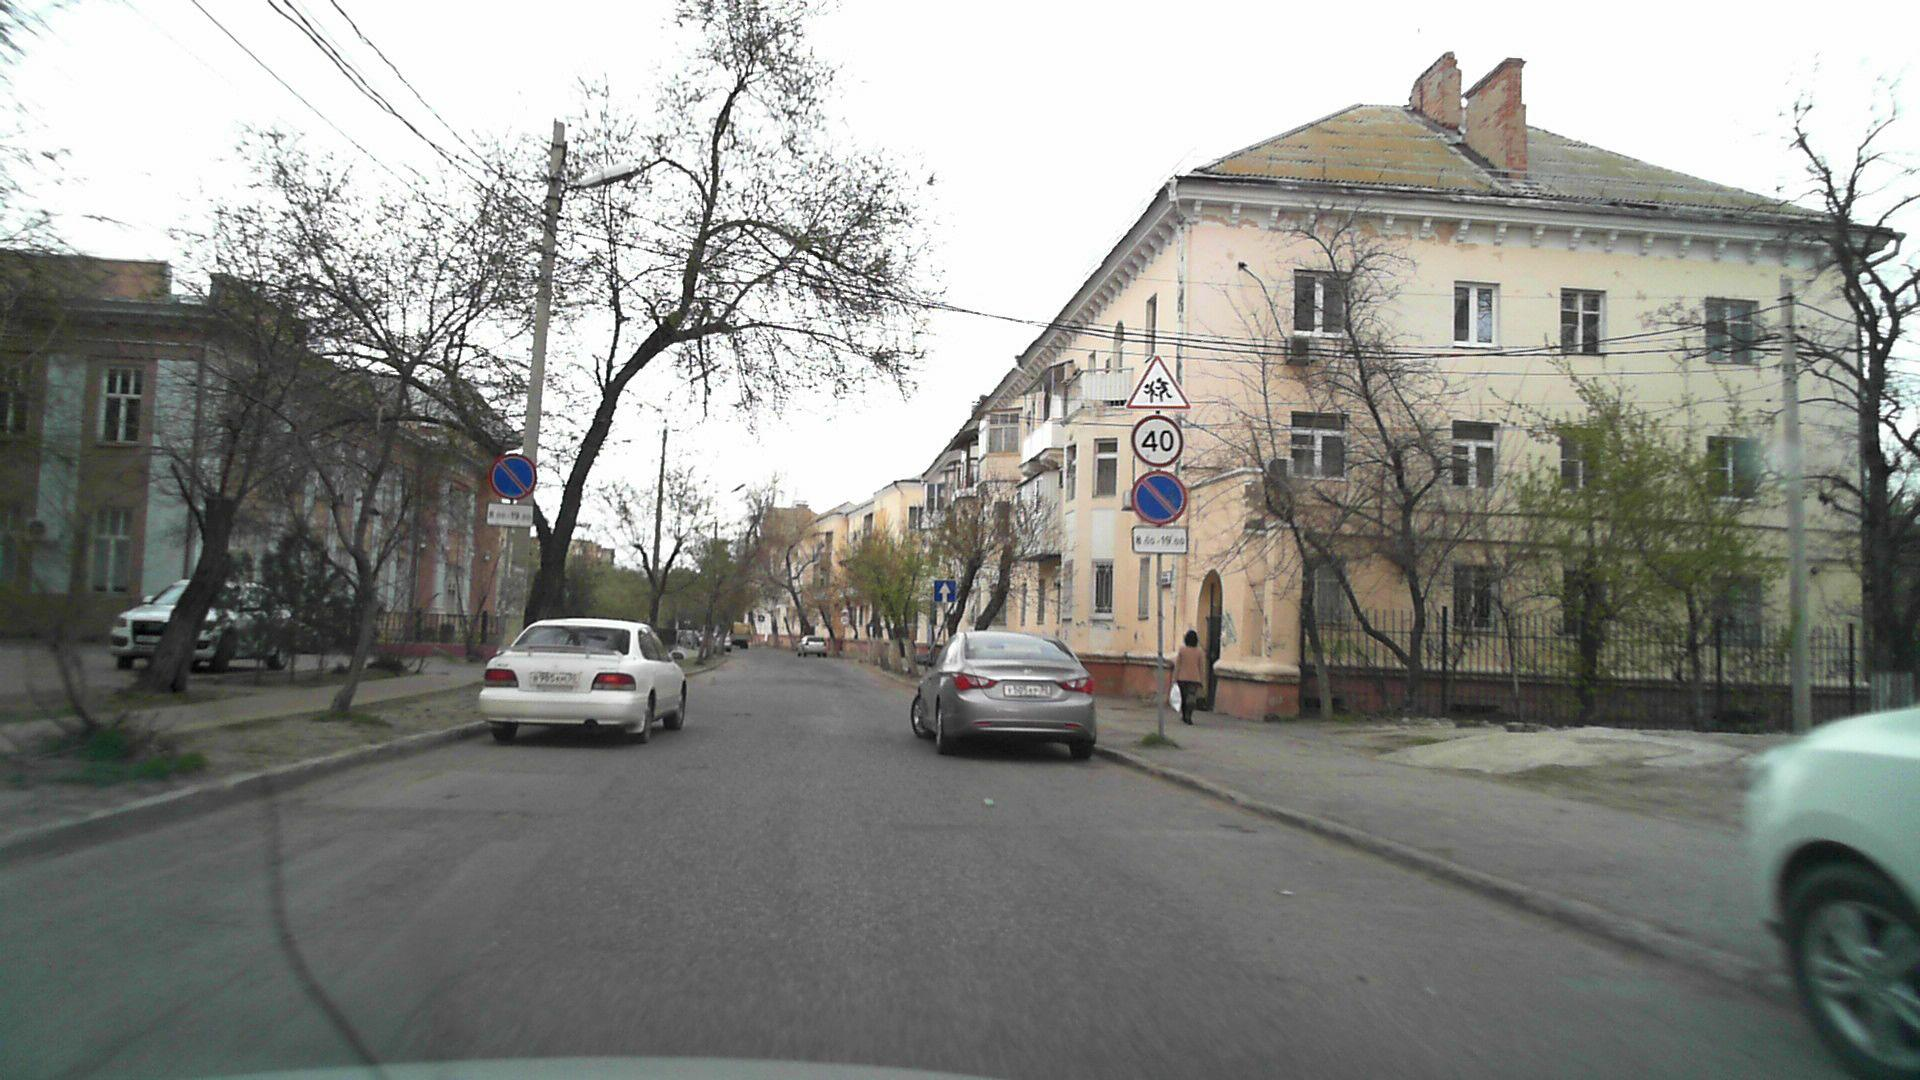1_17: (841, 605, 851, 615)
1_23: (1125, 355, 1191, 411)
3_24: (1130, 415, 1185, 468), (840, 616, 851, 625)
3_28: (1131, 472, 1187, 525), (488, 451, 537, 500)
5_20: (757, 613, 766, 622)
5_5: (930, 576, 957, 605)
8_5_4: (1131, 526, 1189, 554), (485, 500, 534, 529)
